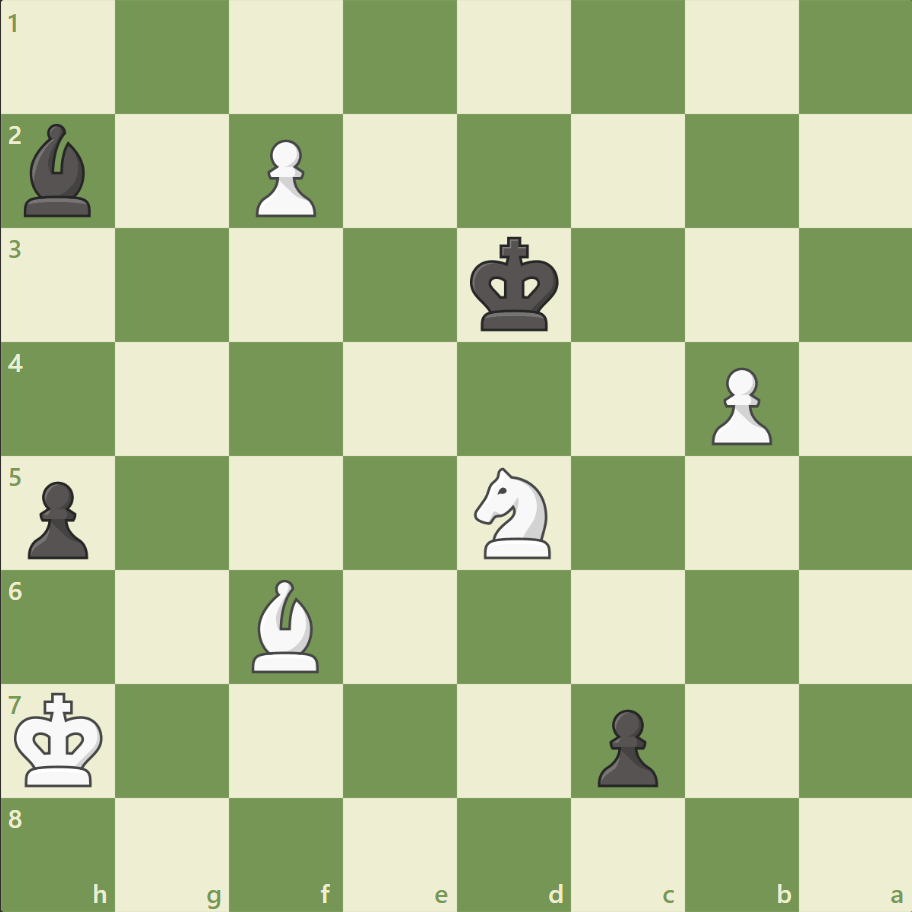B: (244, 574, 328, 676)
K: (11, 685, 111, 793)
N: (465, 461, 562, 564)
P: (701, 359, 776, 450), (247, 132, 322, 223)
b: (17, 120, 101, 222)
k: (465, 231, 565, 339)
p: (20, 473, 95, 564), (588, 700, 662, 791)
